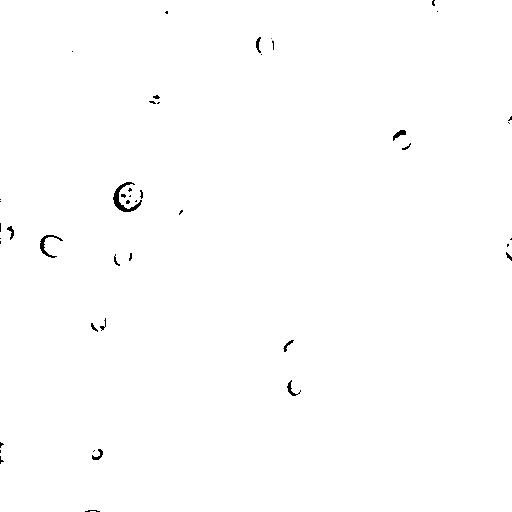micro-algae: (3, 283, 61, 348), (470, 19, 512, 65), (54, 21, 95, 67), (429, 33, 464, 69), (111, 181, 145, 213), (56, 241, 91, 271), (37, 233, 67, 261), (281, 338, 311, 366), (173, 203, 201, 226), (256, 30, 277, 58), (392, 129, 415, 150), (113, 244, 134, 266), (157, 4, 177, 25), (89, 312, 109, 333), (1, 221, 17, 245), (287, 377, 303, 397), (0, 443, 13, 464), (429, 1, 448, 13), (90, 447, 105, 461), (504, 235, 512, 260), (506, 111, 512, 136)
